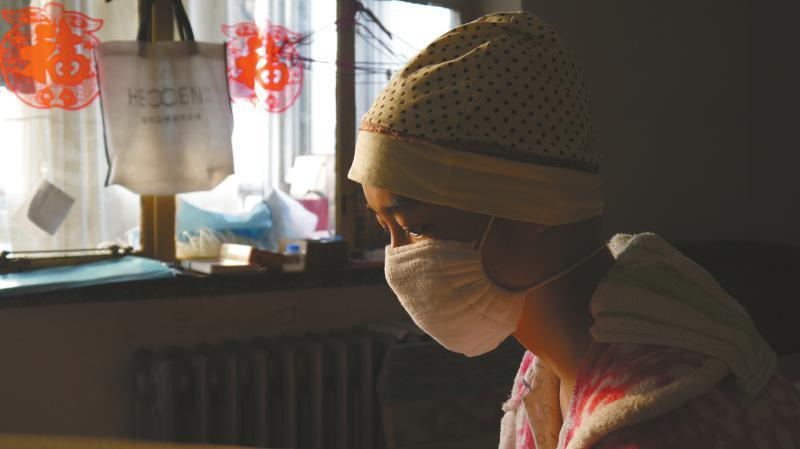OK: (376, 204, 529, 349)
